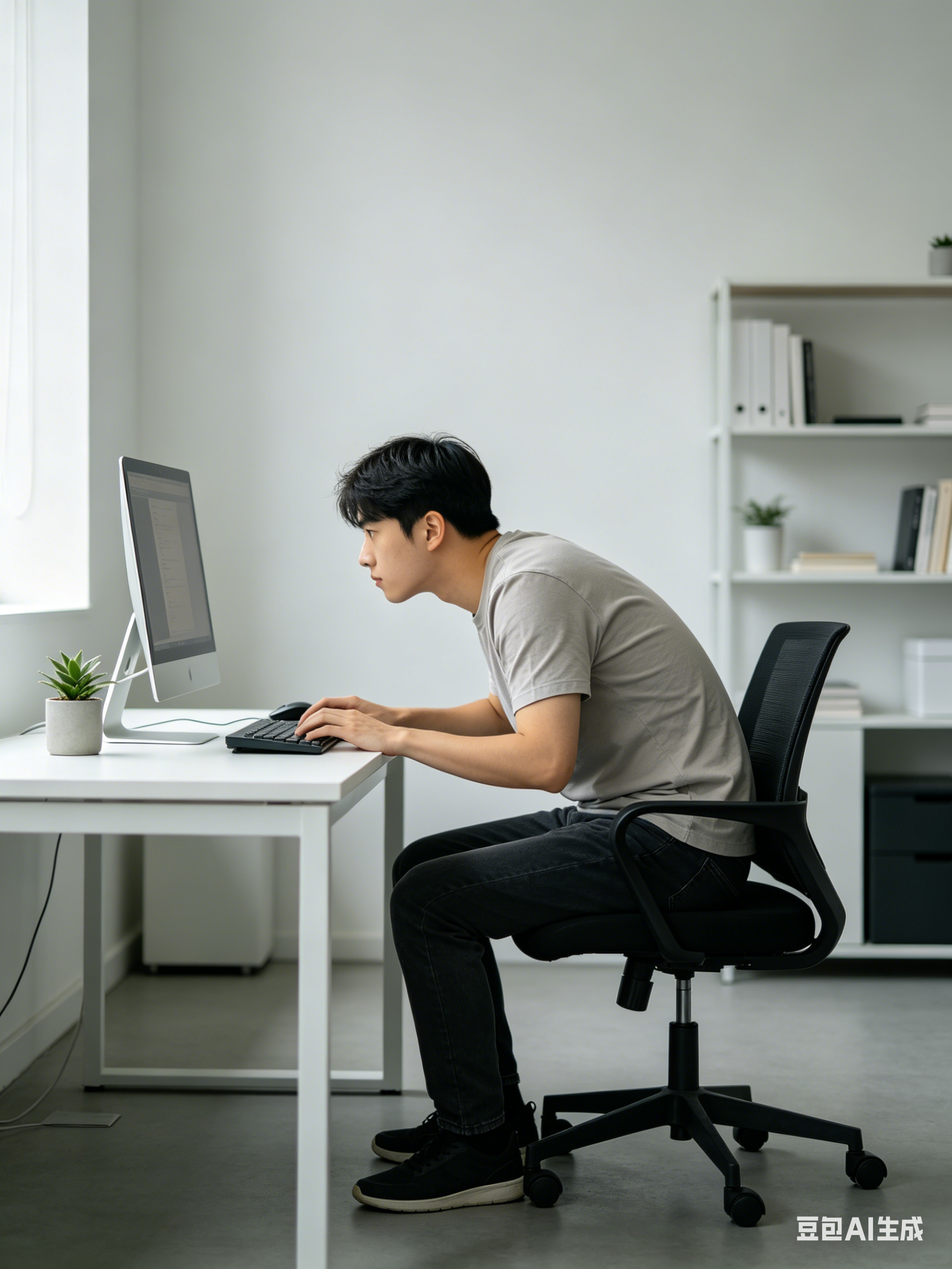sitting_bad: (298, 444, 719, 1175)
